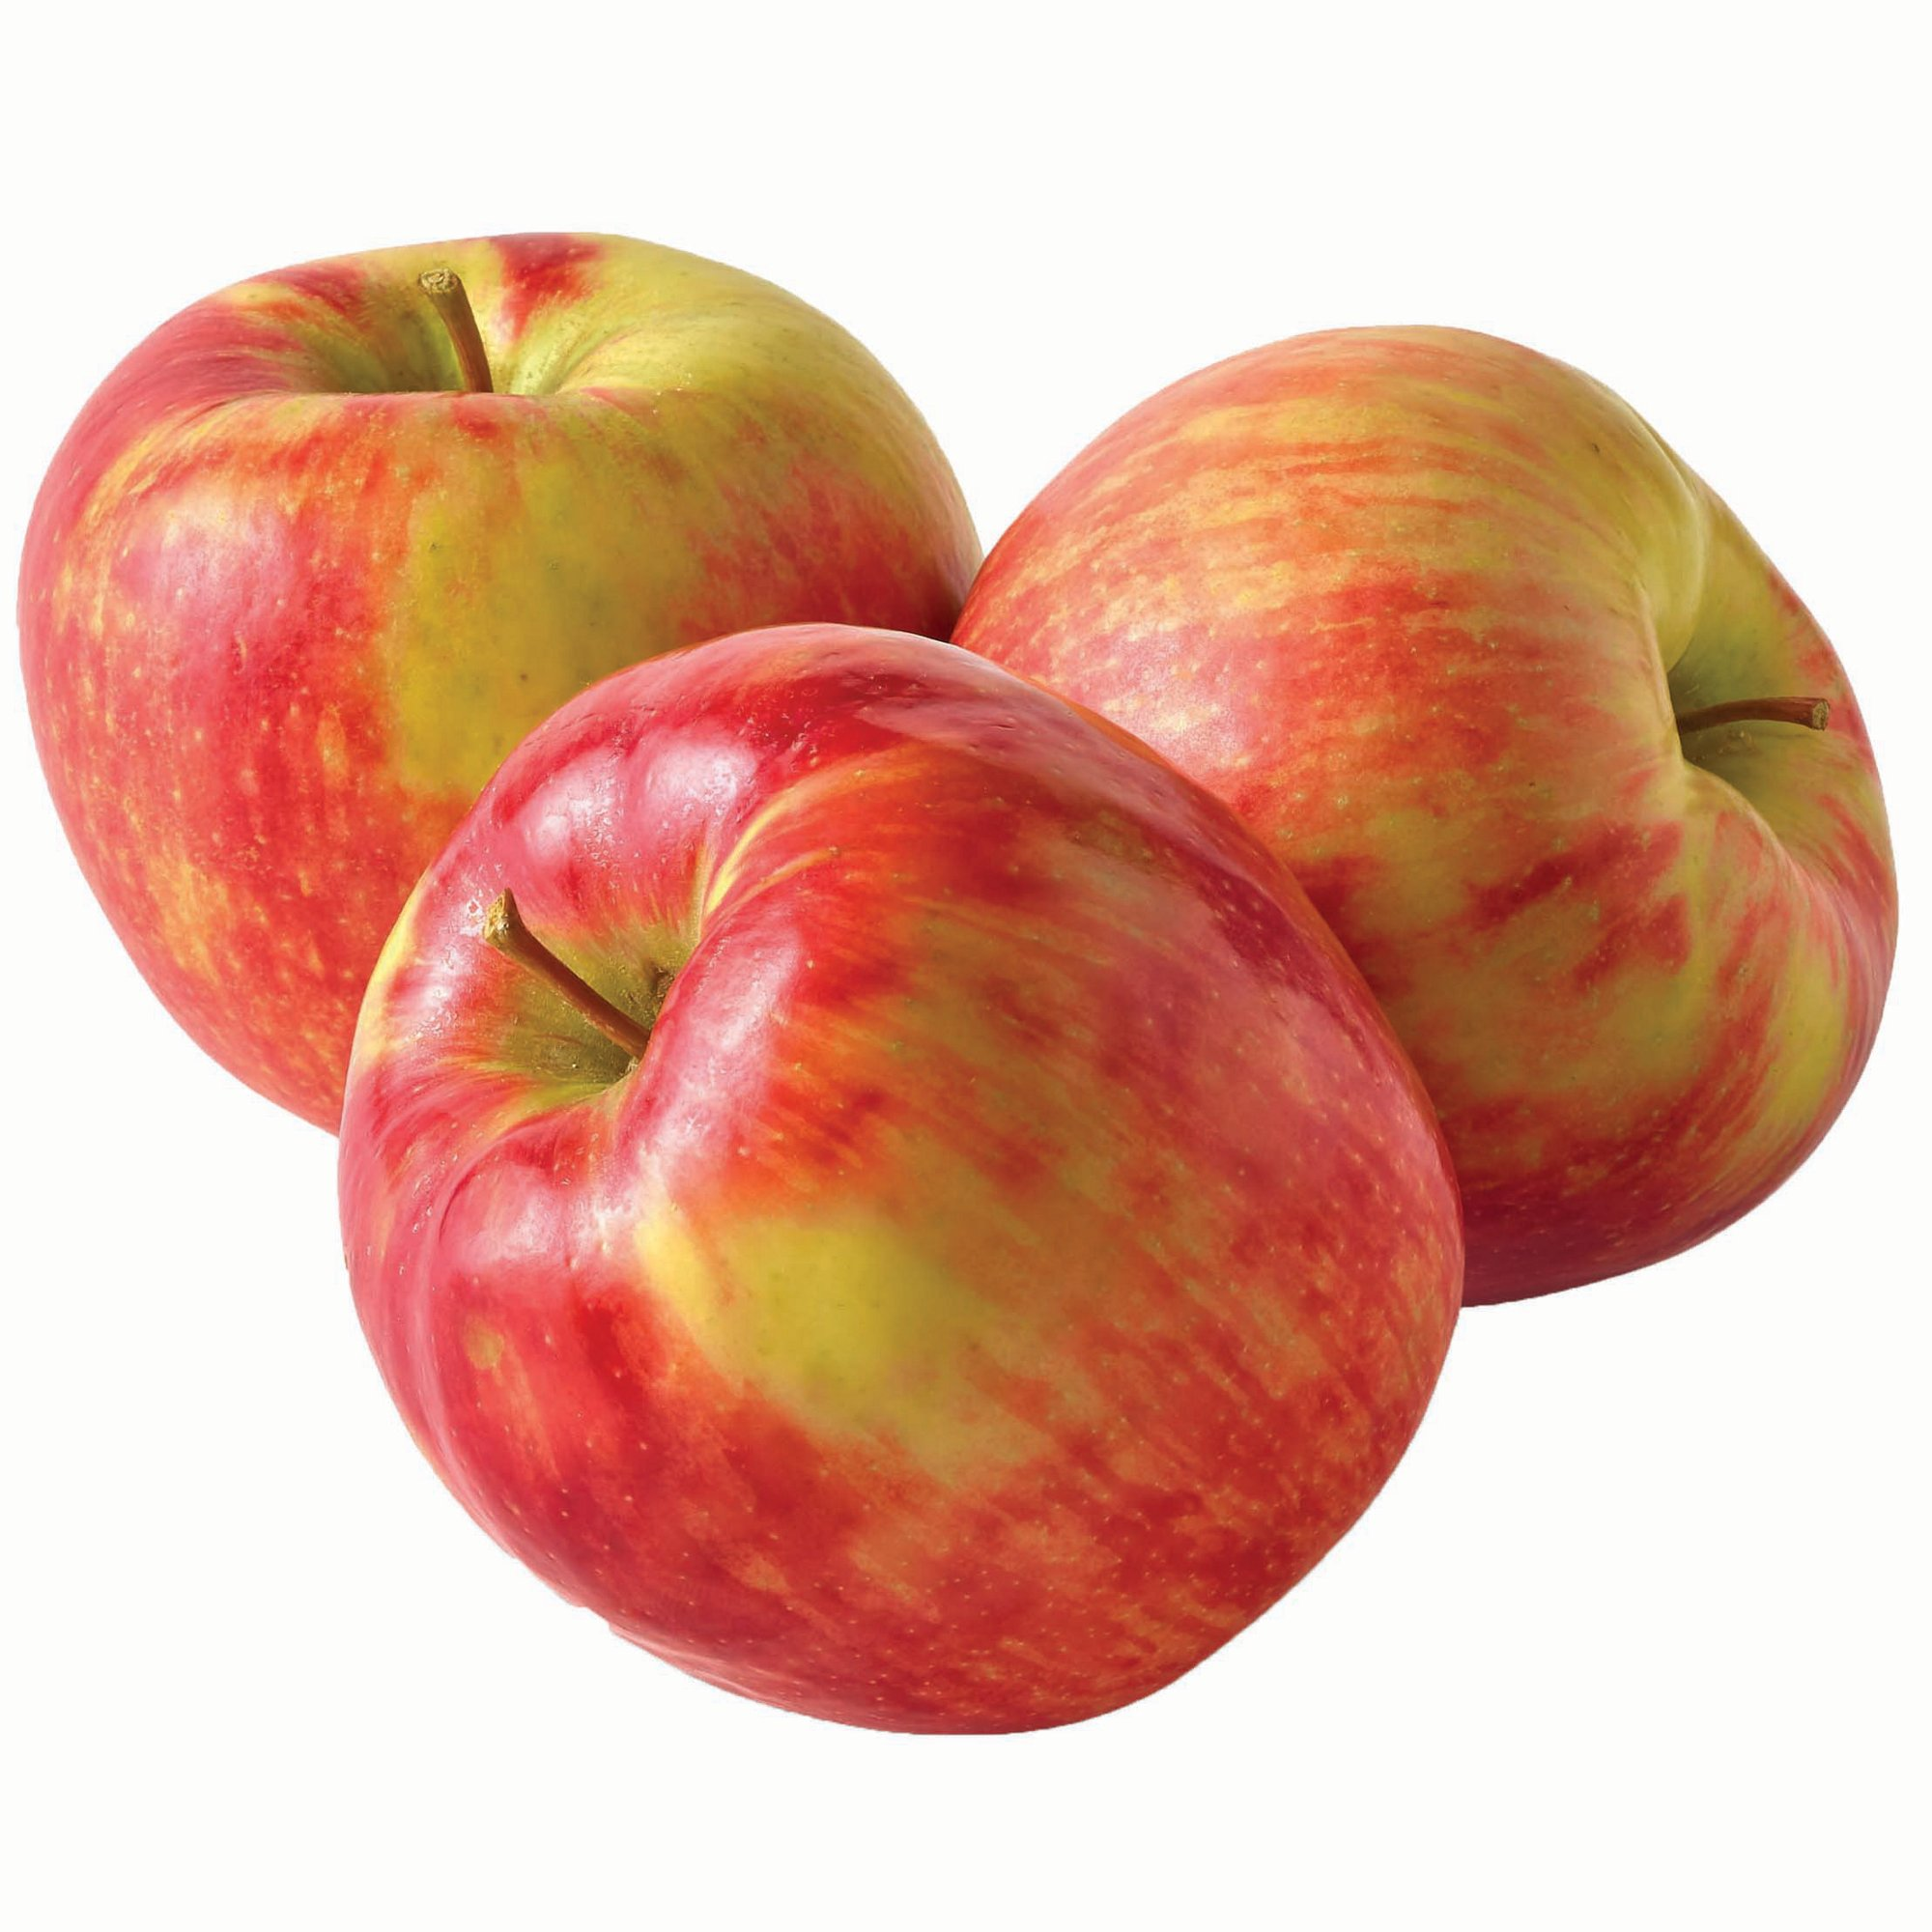apple: (340, 623, 1461, 1732), (21, 230, 984, 1134), (1007, 327, 1897, 1299)
